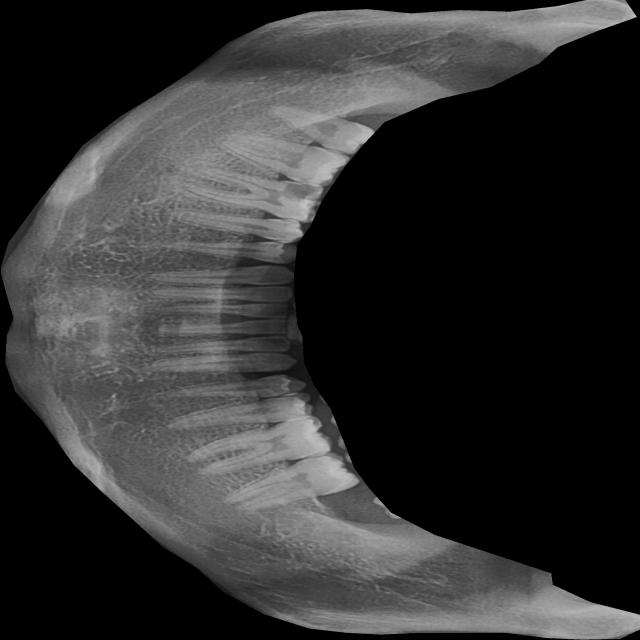mandibula: (0, 0, 639, 640)
